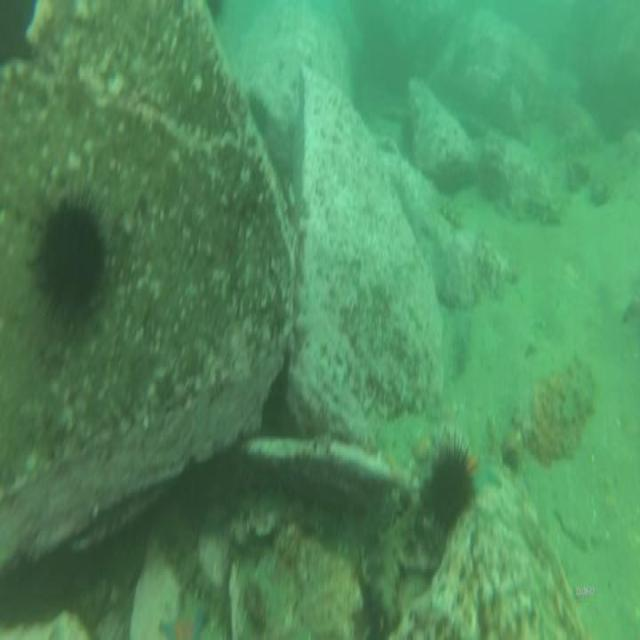echinus: (28, 191, 110, 337), (416, 422, 475, 537)
holothurian: (367, 501, 419, 624)
starfish: (160, 594, 209, 640)
